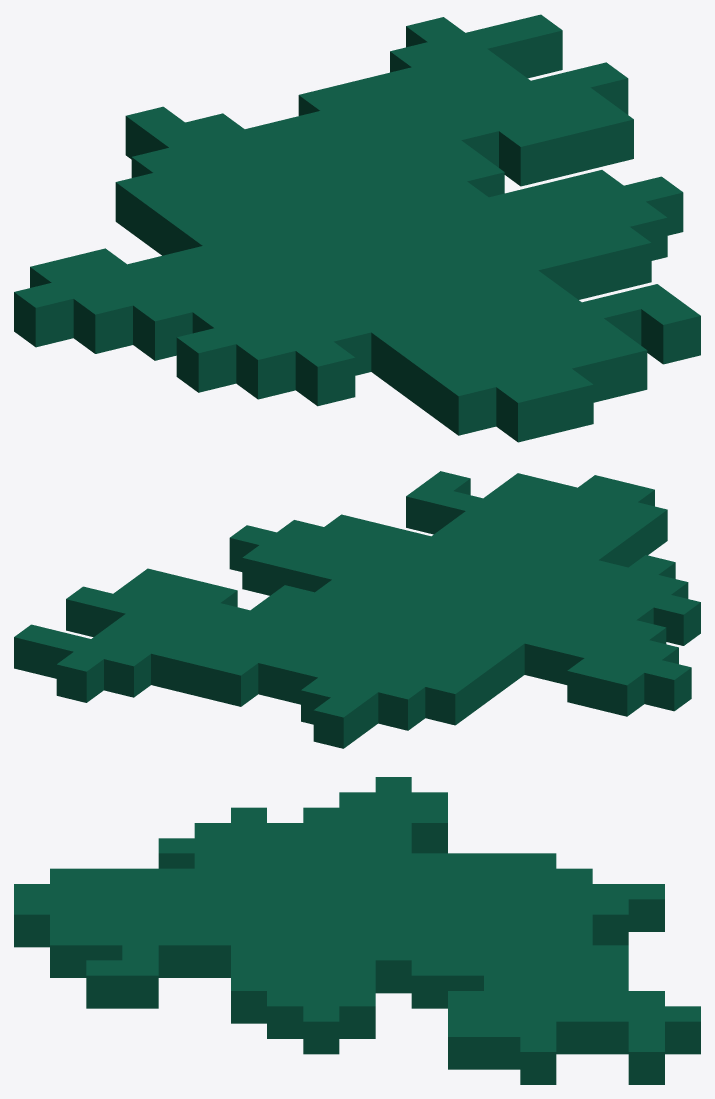
Rendered from moss1.obj.
The picture shows the model from 3 angles, top to bottom: view 1: azimuth 30°, elevation 25°; view 2: azimuth 150°, elevation 25°; view 3: azimuth 270°, elevation 25°; orthographic projection. The views are drawn at different scales.
Size of the model in its own units: 1.8 by 0.1 by 1.9.
1 material, 1 textured.
